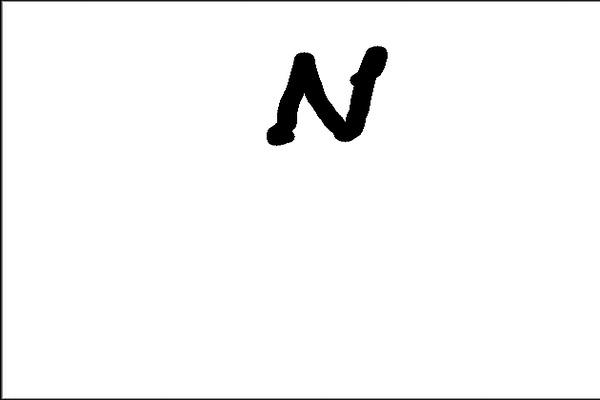N: (258, 40, 393, 153)
